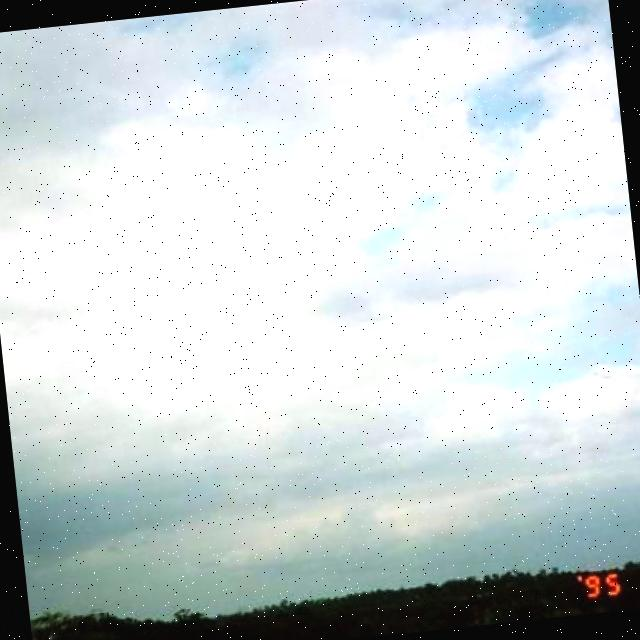Sc: (1, 1, 640, 537)
